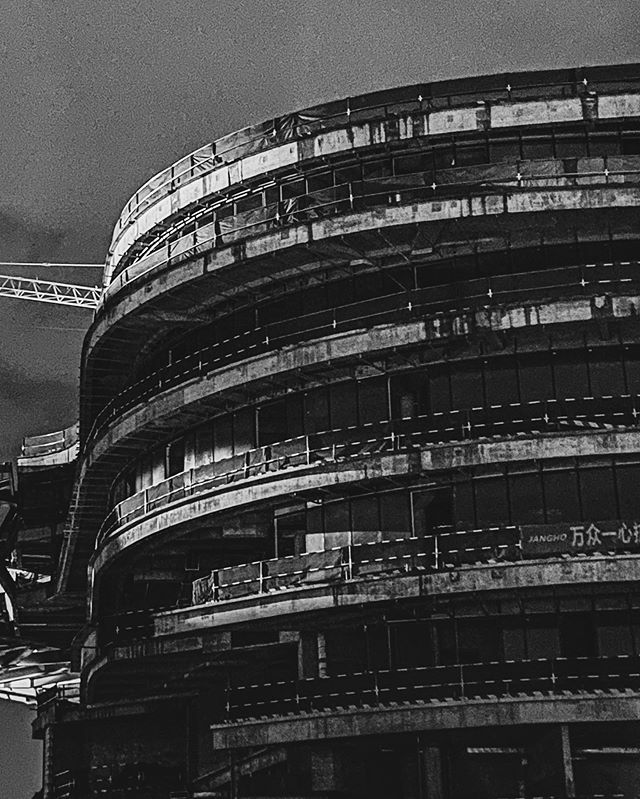building: (23, 108, 640, 774)
